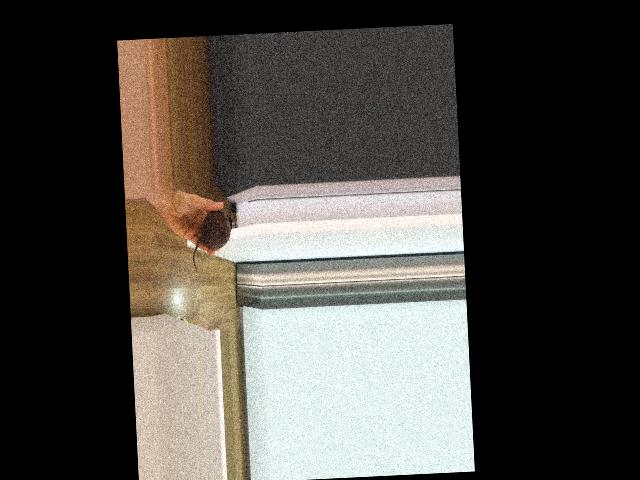beet: (190, 210, 234, 272)
